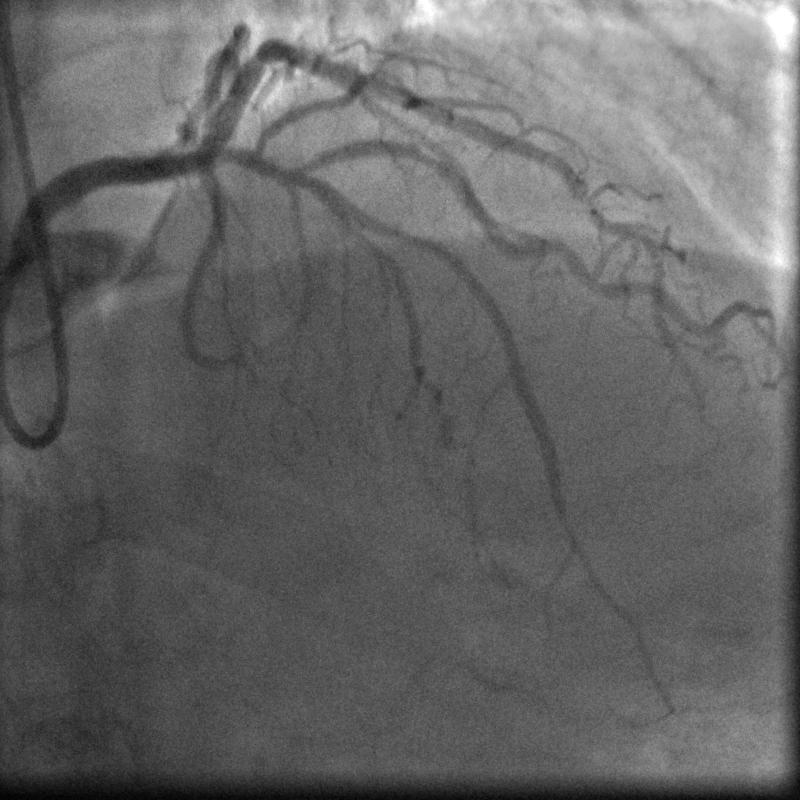Stenosis: (406, 129, 441, 176)
